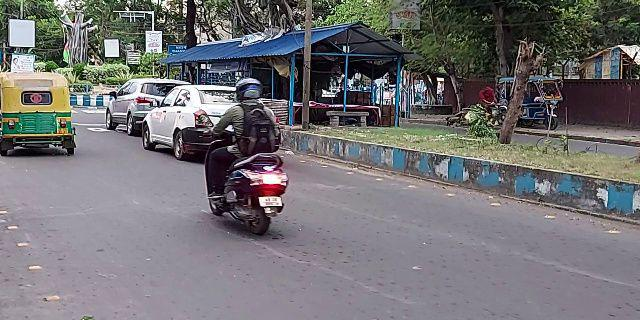Autorickshaw: (1, 65, 80, 159)
Car: (139, 80, 256, 146), (102, 74, 173, 137)
Motorbike: (202, 72, 296, 244)
